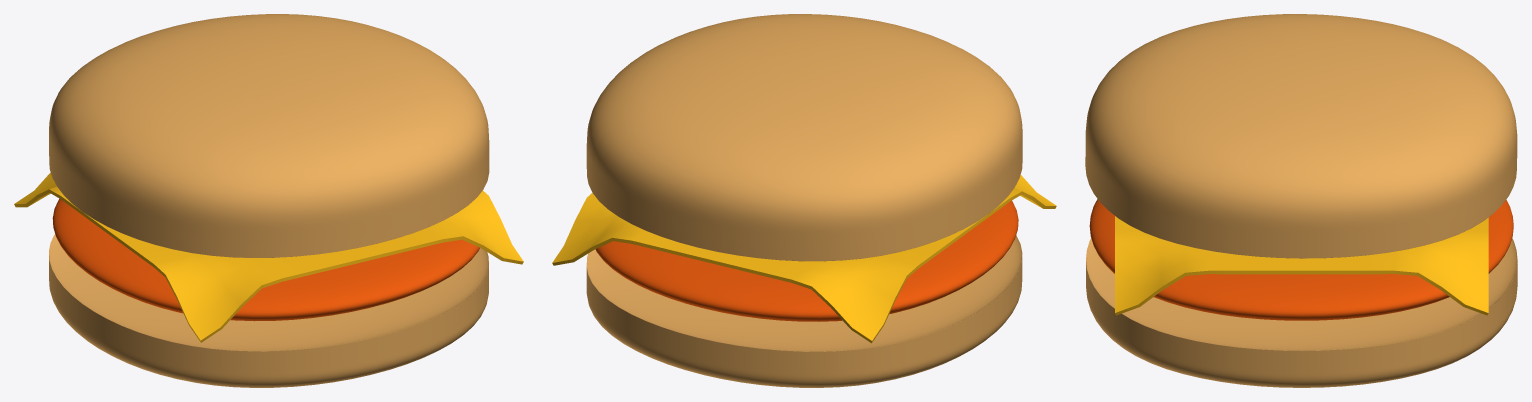
File: hamburger.glb
The picture shows the model from 3 angles, left to right: view 1: azimuth 30°, elevation 25°; view 2: azimuth 150°, elevation 25°; view 3: azimuth 270°, elevation 25°; orthographic projection.
Parts seen in each view (by area): view 1: Cube.003, Cube.001, Cube.002, Plane; view 2: Cube.003, Cube.001, Cube.002, Plane; view 3: Cube.003, Cube.001, Plane, Cube.002.
Boxes of the visible parts, left/top/right/bottom form: Cube.003: left=49, top=14, right=489, bottom=257; Cube.001: left=49, top=234, right=488, bottom=387; Cube.002: left=52, top=198, right=479, bottom=321; Plane: left=14, top=172, right=523, bottom=342; Cube.003: left=586, top=14, right=1022, bottom=261; Cube.001: left=586, top=235, right=1022, bottom=387; Cube.002: left=595, top=200, right=1018, bottom=321; Plane: left=552, top=175, right=1056, bottom=343; Cube.003: left=1085, top=14, right=1517, bottom=258; Cube.001: left=1086, top=238, right=1517, bottom=387; Plane: left=1115, top=216, right=1488, bottom=315; Cube.002: left=1089, top=199, right=1513, bottom=320.
Size of the model in its own units: 9.23 by 5.84 by 9.24.
